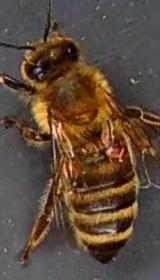varroa_mite: (100, 140, 128, 162)
